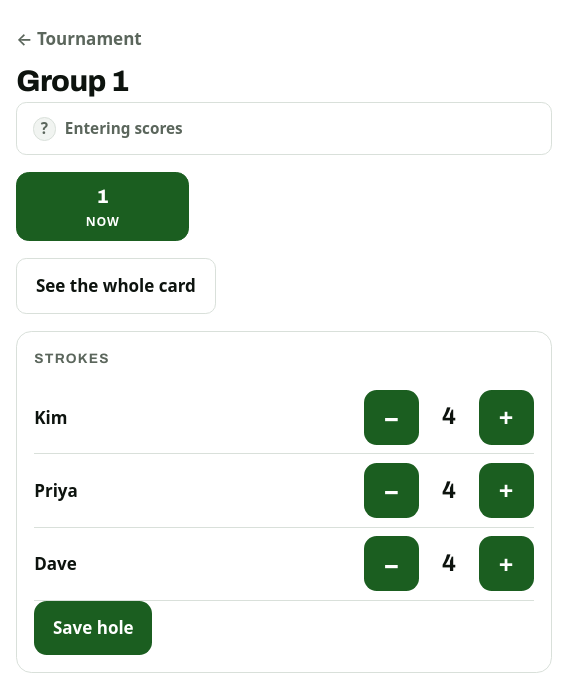
it: score entry › says nobody wins once both questions are declined
This screenshot has width=569, height=695.
Click the button "Save hole": {"x": 93, "y": 628} [34,601,152,655]
(page scrolled)
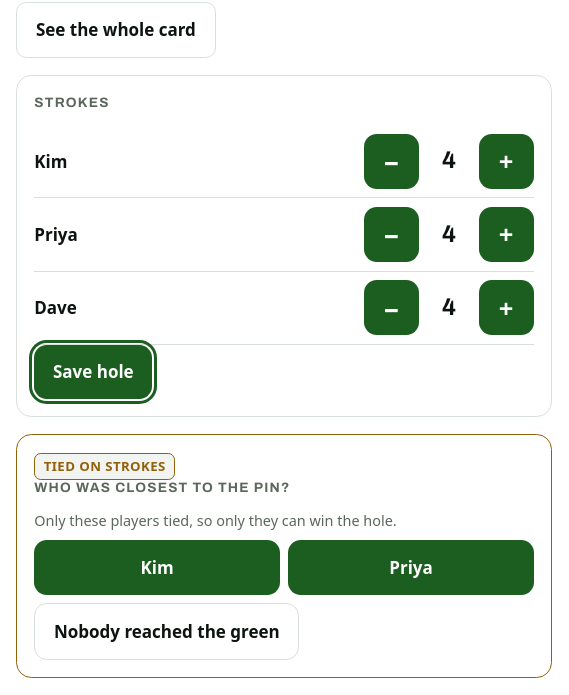
Click the button "Nobody reached the green": {"x": 167, "y": 631} [34,603,299,660]
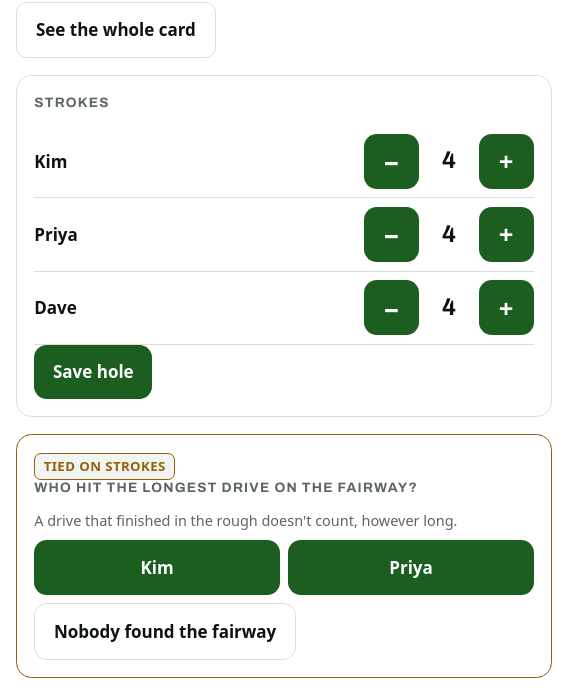
Click the button "Nobody found the fairway": {"x": 165, "y": 631} [34,603,296,660]
(page scrolled)
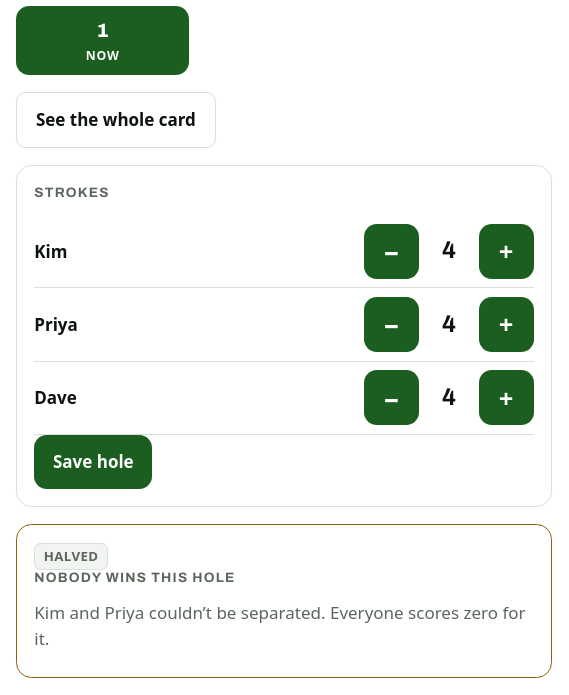
expect the heading "Nobody wins this hole" is shown: met, box [34,570,236,585]
expect the text "scores zero" is shown: met, box [34,601,526,650]
